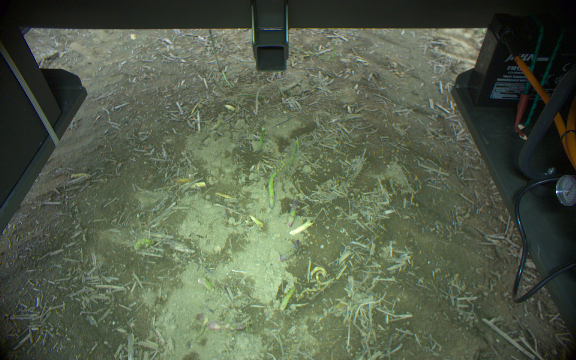aspa: (206, 29, 225, 74), (206, 315, 248, 332), (279, 239, 302, 264), (268, 162, 279, 211), (132, 235, 156, 255), (279, 286, 296, 313), (286, 197, 298, 228), (255, 127, 266, 154)
